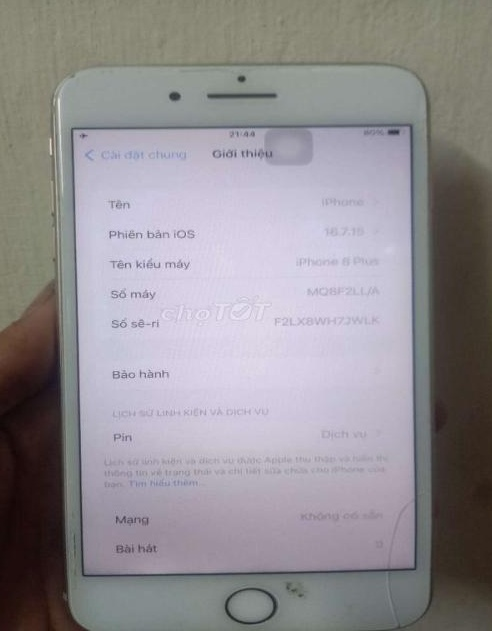physical_damage: (386, 483, 441, 626)
scratch: (156, 64, 377, 76), (64, 502, 84, 597), (280, 580, 315, 603), (98, 65, 119, 73), (61, 70, 80, 78)
